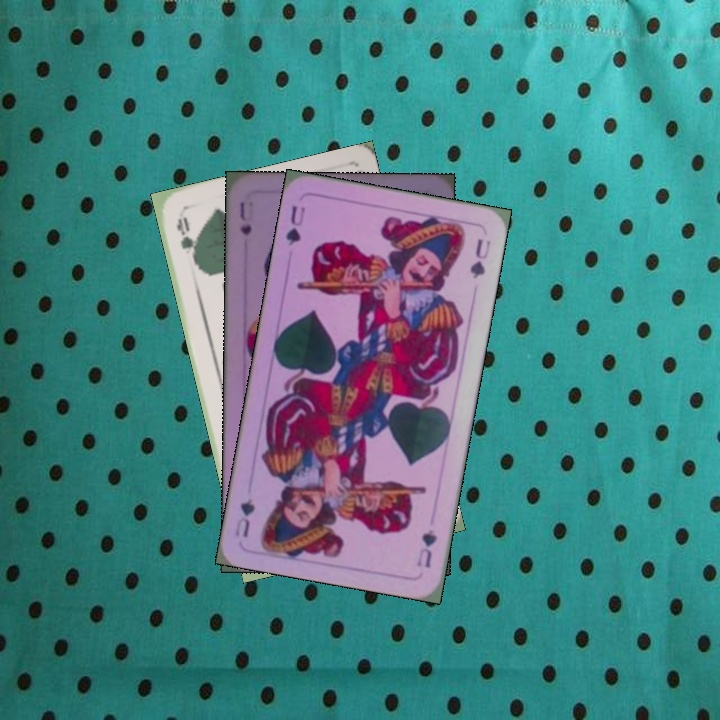GO: (172, 213, 201, 269)
GU: (281, 201, 308, 248), (413, 525, 440, 571)
SU: (235, 198, 254, 238)
